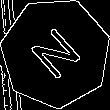N_SE: (24, 21, 87, 85)
